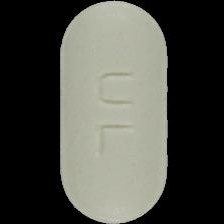16590-469: (0, 0, 224, 224)
